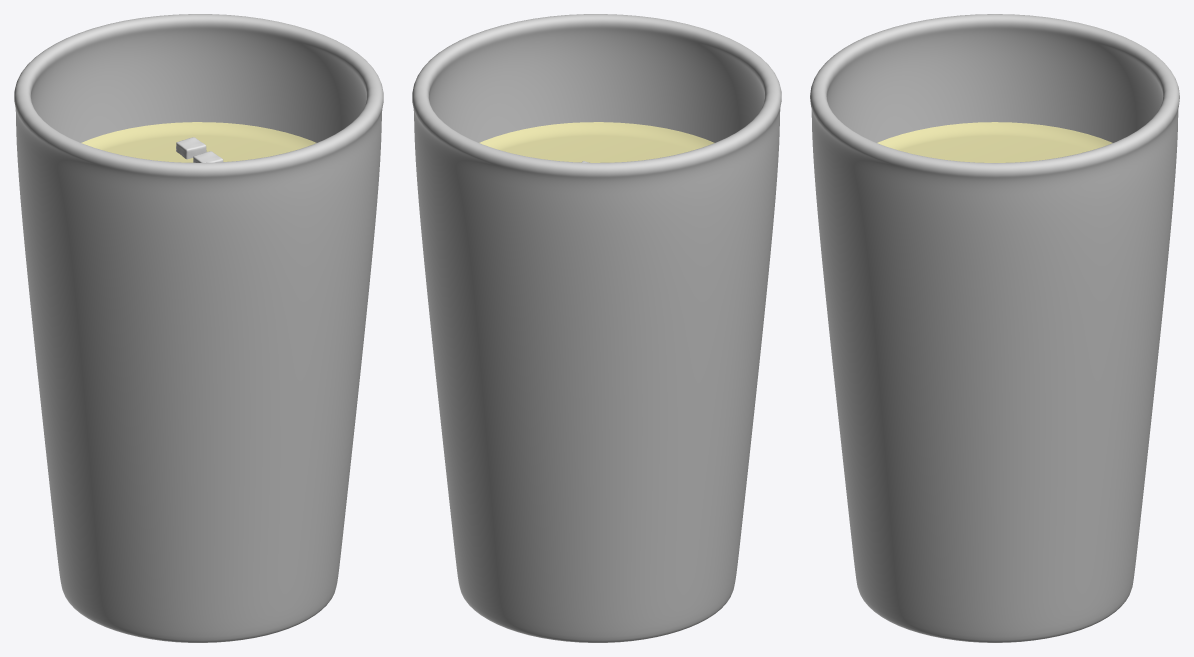
Rendered from bloodymarry.fbx.
3 renders of one model, left to right at view 1: azimuth 30°, elevation 25°; view 2: azimuth 150°, elevation 25°; view 3: azimuth 270°, elevation 25°, orthographic.
Visible parts, largest first — view 1: Glass full of water.002, lichid.003; view 2: Glass full of water.002, lichid.003; view 3: Glass full of water.002, lichid.003.
Part boxes in pixels (x1,y1,x2,y2): Glass full of water.002: (14,14,383,642); lichid.003: (81,122,316,162); Glass full of water.002: (412,14,781,642); lichid.003: (479,122,714,162); Glass full of water.002: (810,14,1179,642); lichid.003: (877,122,1112,162).
Bounding box in the file's own units: 193 × 287 × 193.
